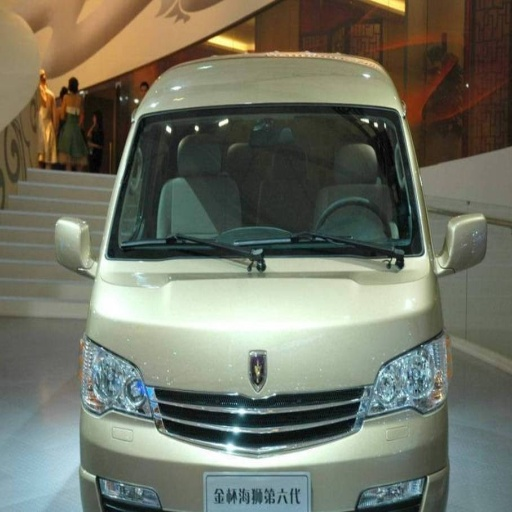front_bumper: (82, 342, 446, 511)
front_right_light: (81, 337, 155, 421)
hood: (91, 257, 435, 391)
left_mirror: (437, 216, 488, 271)
